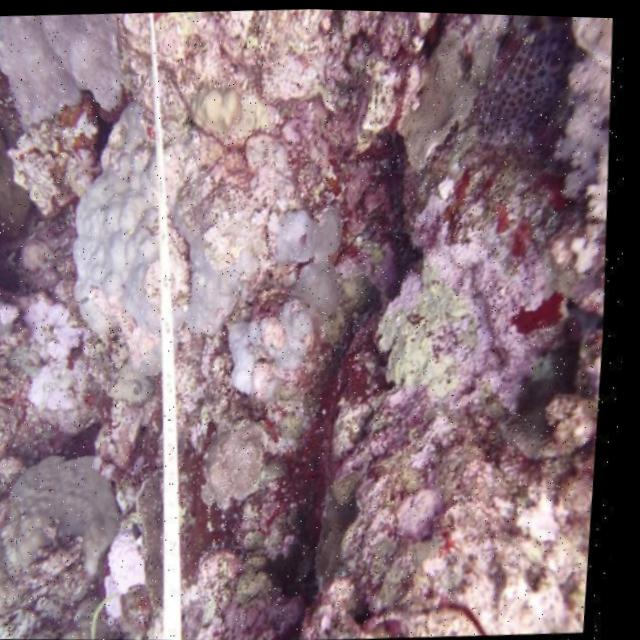Bleached Coral: (205, 189, 377, 417), (56, 108, 219, 343), (0, 9, 142, 177), (0, 252, 115, 446), (87, 490, 188, 625)
